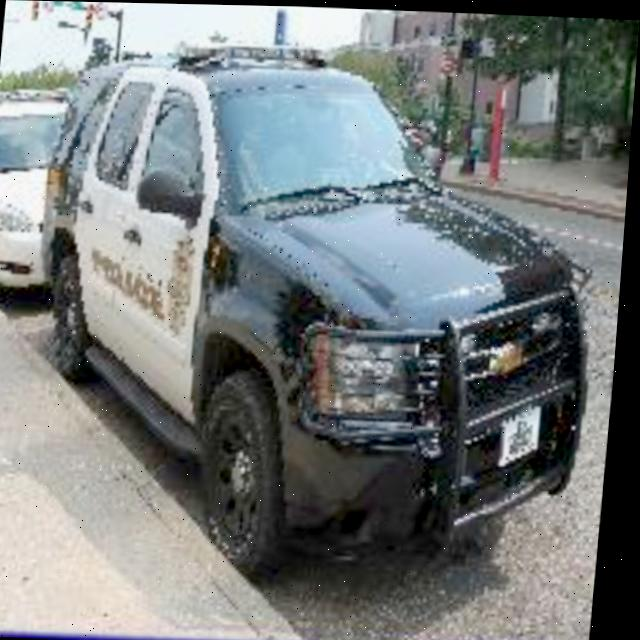emergency: (18, 52, 622, 582)
